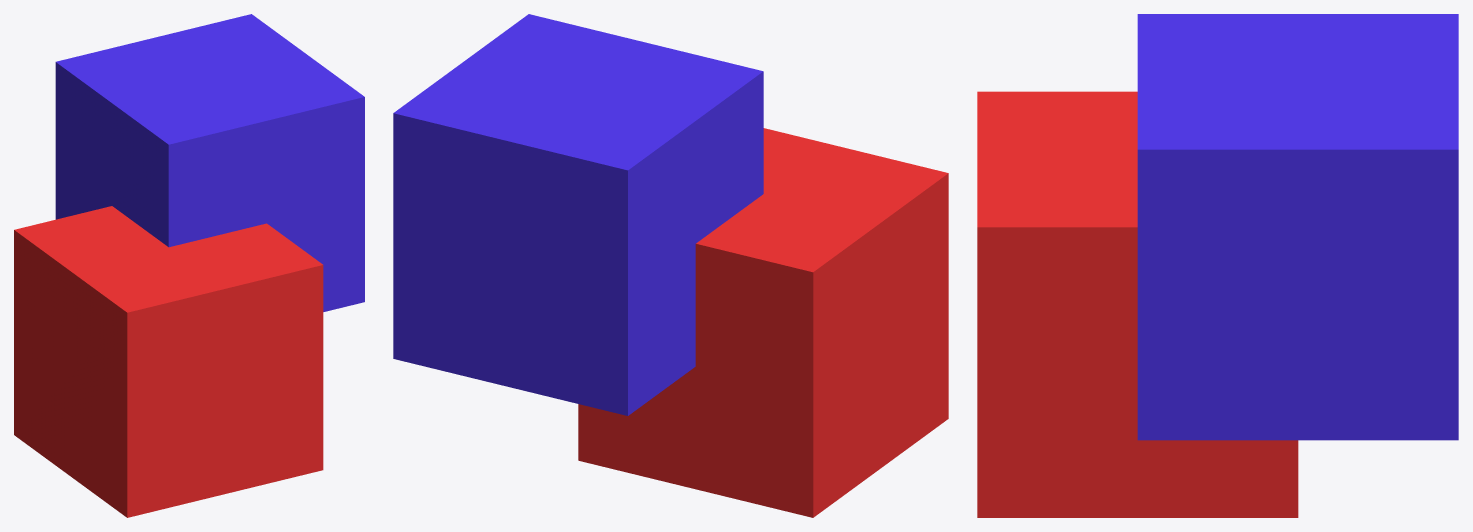
Rendered from TestMultiMesh.gltf.
3 renders of one model, left to right at view 1: azimuth 30°, elevation 25°; view 2: azimuth 150°, elevation 25°; view 3: azimuth 270°, elevation 25°, orthographic. The views are drawn at different scales.
Parts seen in each view (by area): view 1: 立方体, 立方体.001; view 2: 立方体.001, 立方体; view 3: 立方体.001, 立方体.
Boxes of the visible parts, x1,y1,x2,y2 form: 立方体: (14, 206, 323, 517); 立方体.001: (55, 14, 364, 311); 立方体.001: (393, 14, 763, 415); 立方体: (578, 128, 948, 517); 立方体.001: (1137, 14, 1458, 440); 立方体: (977, 91, 1298, 517).
Bounding box in the file's own units: 3 × 3 × 3.
Materials: 2 (2 with a texture image).
